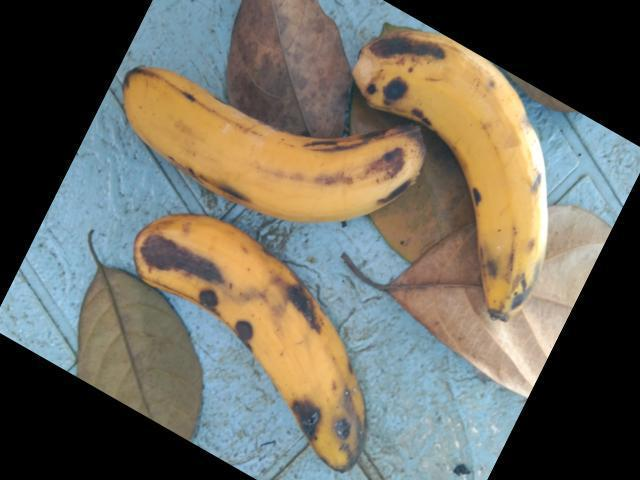overripe: (362, 18, 560, 323), (132, 210, 373, 457)
ripe: (107, 64, 428, 218)
